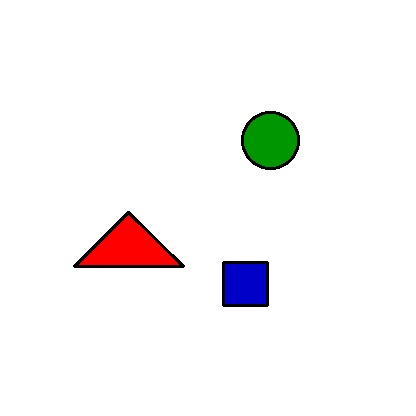circle: (225, 112, 315, 169)
rectangle: (223, 262, 267, 305)
triangle: (74, 212, 183, 266)
